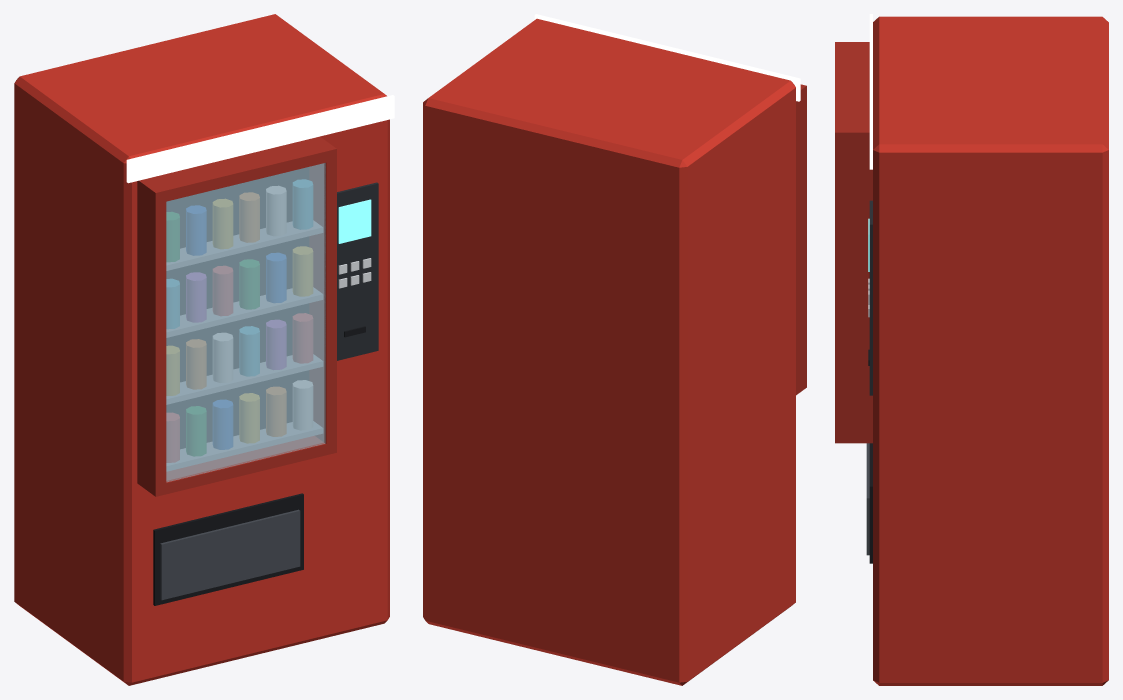
The model's file is vending_machine.glb.
3 views of the same model, side by side, from view 1: azimuth 30°, elevation 25°; view 2: azimuth 150°, elevation 25°; view 3: azimuth 270°, elevation 25° (orthographic). The views are drawn at different scales.
Parts seen in each view (by area): view 1: vending_machine; view 2: vending_machine; view 3: vending_machine.
Part boxes in pixels (x1,y1,x2,y2): vending_machine: [14, 14, 394, 685]; vending_machine: [423, 14, 806, 685]; vending_machine: [835, 14, 1108, 685].
Size of the model in its own units: 1 by 1.9 by 0.87.
